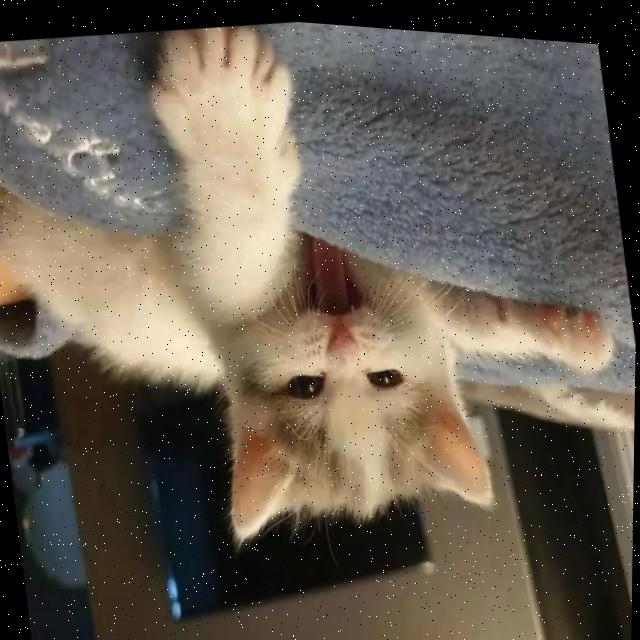Cats: (0, 0, 640, 609)
